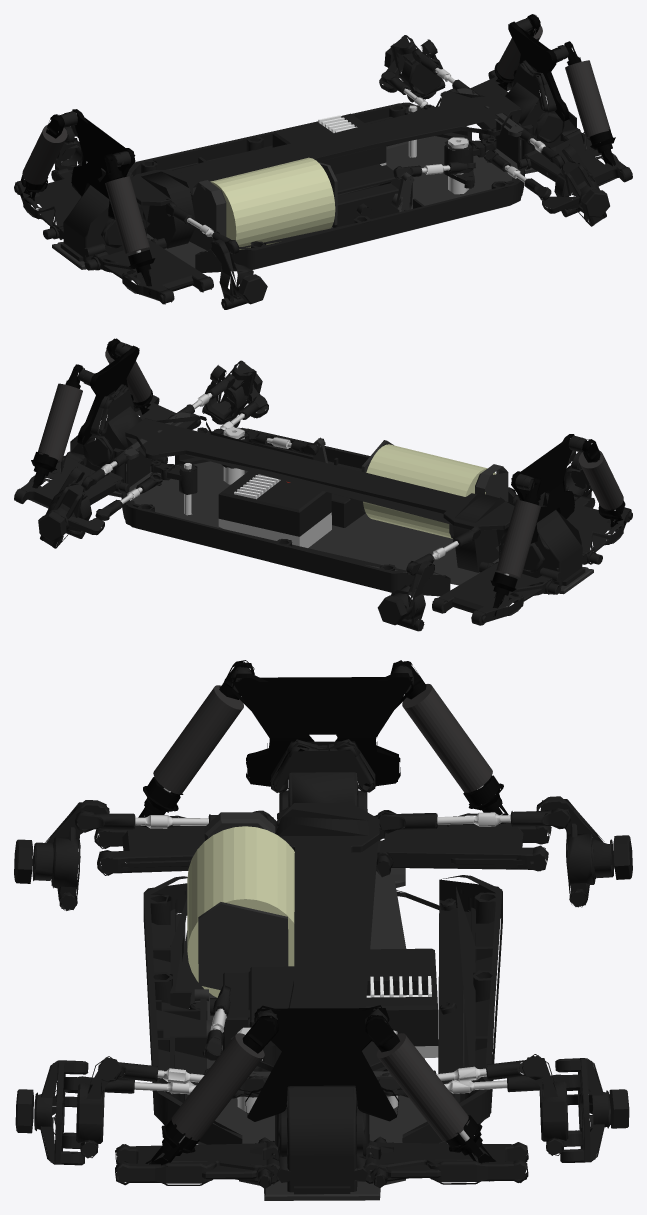
3 views of the same model, one above another, from view 1: azimuth 30°, elevation 25°; view 2: azimuth 150°, elevation 25°; view 3: azimuth 270°, elevation 25° (orthographic). The views are drawn at different scales.
Parts seen in each view (by area): view 1: Body1.120, Cylinder.001, Body1.049, Body1.002, Body1.051, Body2.004, Body2.006, Body1.001, Body1.119, Body1.292, Body1.087, Body2.002 (+22 smaller); view 2: Body1.120, Body1.002, Body2.006, Cylinder.001, Body1.293, Body1.051, Body1.001, Body2.002, Body1.292, Body1.054, Cylinder, Body2.004 (+22 smaller); view 3: Body1.120, Body2.006, Body1.292, Body1.049, Body1.291, Cylinder.001, Body1.051, Body1.002, Body2.002, Body2.071, Body1.001, Body1.054 (+27 smaller).
Part boxes in pixels (left/top/right/bottom): Body1.120: left=130, top=91, right=521, bottom=248; Cylinder.001: left=210, top=157, right=335, bottom=249; Body1.049: left=195, top=168, right=524, bottom=272; Body1.002: left=52, top=136, right=586, bottom=270; Body1.051: left=496, top=60, right=580, bottom=162; Body2.004: left=93, top=238, right=213, bottom=304; Body2.006: left=128, top=102, right=471, bottom=176; Body1.001: left=59, top=168, right=150, bottom=261; Body1.119: left=332, top=164, right=401, bottom=227; Body1.292: left=71, top=109, right=135, bottom=219; Body1.087: left=523, top=130, right=632, bottom=192; Body2.002: left=14, top=168, right=112, bottom=239; Body1.120: left=125, top=415, right=514, bottom=572; Body1.002: left=60, top=461, right=593, bottom=594; Body2.006: left=121, top=491, right=450, bottom=596; Cylinder.001: left=363, top=444, right=495, bottom=538; Body1.293: left=218, top=471, right=331, bottom=536; Body1.051: left=67, top=384, right=150, bottom=486; Body1.001: left=495, top=492, right=586, bottom=586; Body2.002: left=432, top=561, right=552, bottom=625; Body1.292: left=511, top=434, right=574, bottom=543; Body1.054: left=14, top=453, right=123, bottom=508; Cylinder: left=496, top=499, right=540, bottom=577; Body2.004: left=539, top=495, right=632, bottom=564; Body1.120: left=257, top=802, right=386, bottom=1071; Body2.006: left=402, top=875, right=502, bottom=1143; Body1.292: left=232, top=673, right=413, bottom=786; Body1.049: left=143, top=876, right=242, bottom=1144; Body1.291: left=245, top=1005, right=398, bottom=1121; Cylinder.001: left=187, top=826, right=294, bottom=997; Body1.051: left=275, top=1085, right=369, bottom=1192; Body1.002: left=182, top=868, right=464, bottom=1200; Body2.002: left=374, top=813, right=551, bottom=871; Body2.071: left=198, top=902, right=288, bottom=989; Body1.001: left=270, top=739, right=375, bottom=826; Body1.054: left=363, top=1140, right=528, bottom=1184.
Bounding box in the file's own units: 0.275 × 0.1929 × 0.0673.
